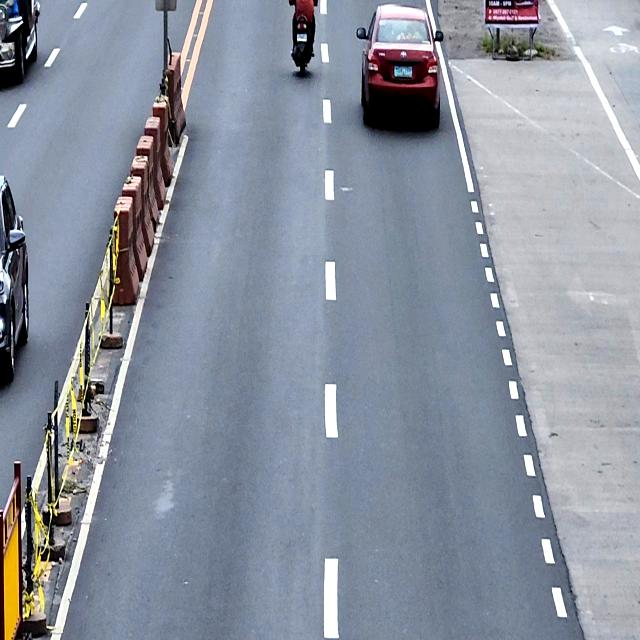Car: (356, 2, 444, 128), (0, 174, 29, 382), (0, 0, 40, 83)
License-Plate: (393, 63, 413, 79), (296, 33, 308, 42)
Motorcycle: (289, 1, 317, 76)
